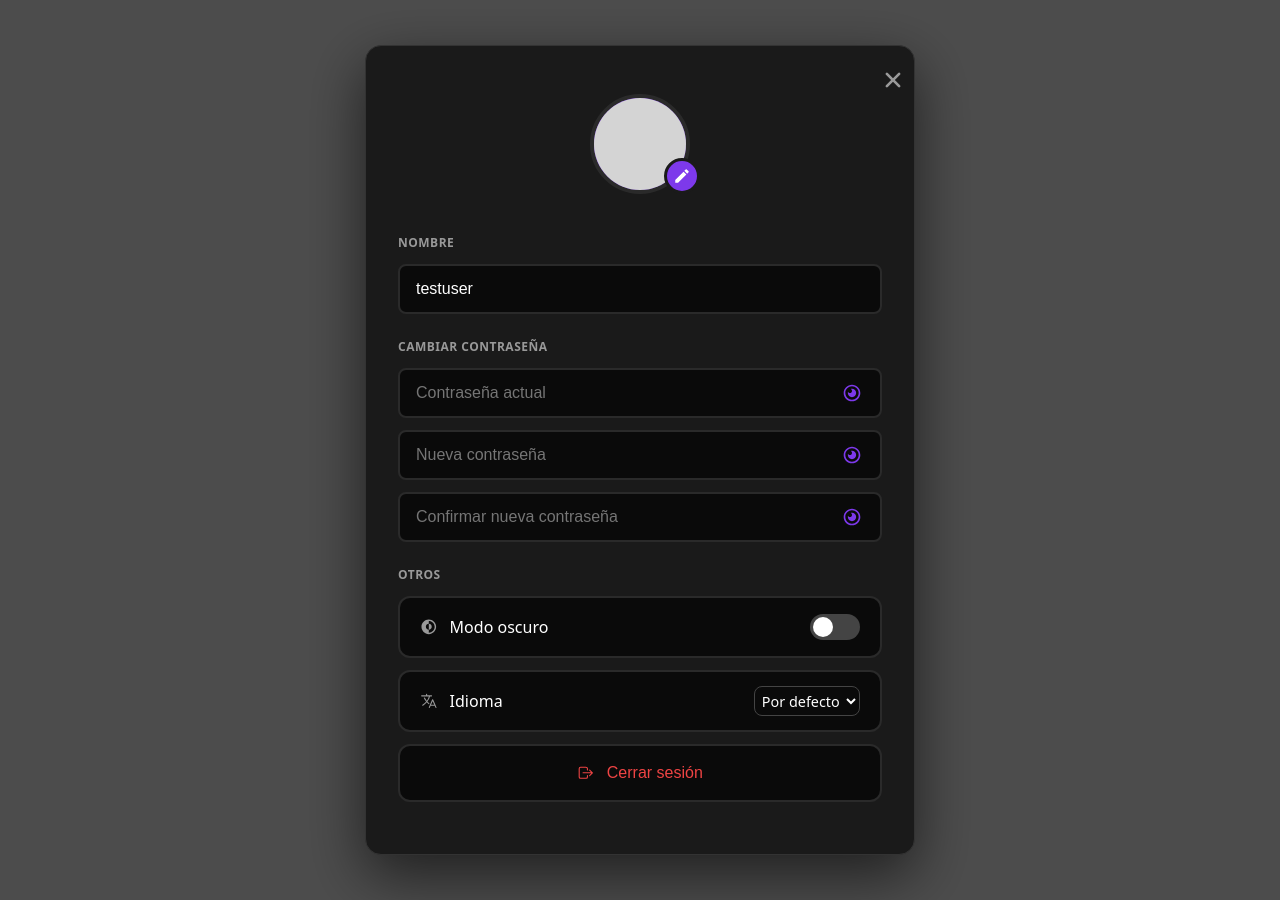
Test case: UserProfileModal Component › closes avatar edit menu when clicking outside
Click the button with class "avatar-edit-btn": click(682, 176) [664,158,700,194]
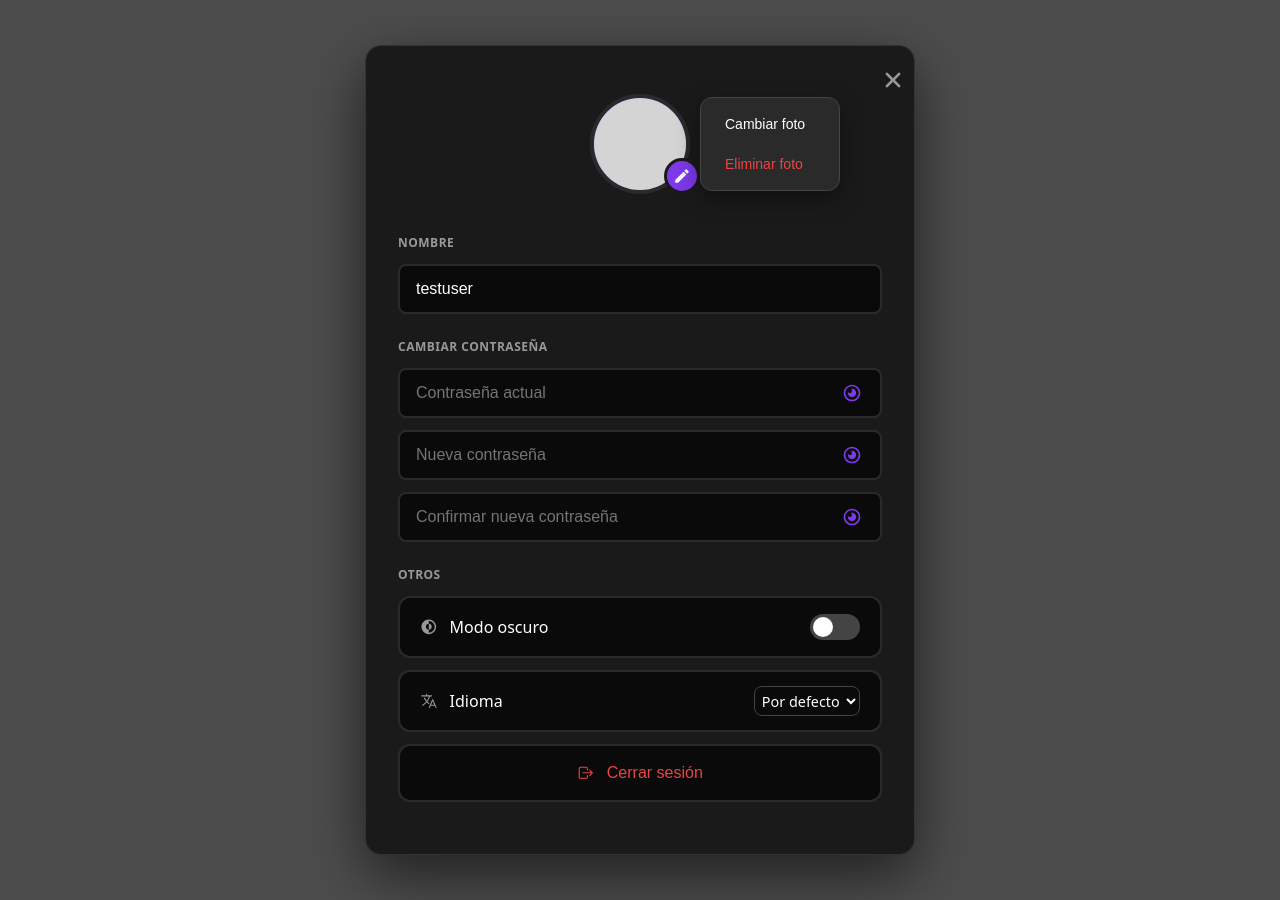
Now the button "Cambiar foto" is shown, box [709,106,831,142]
Press the mouse on the element that starts with "Cambiar foto": (640, 450) [0,0,1279,899]
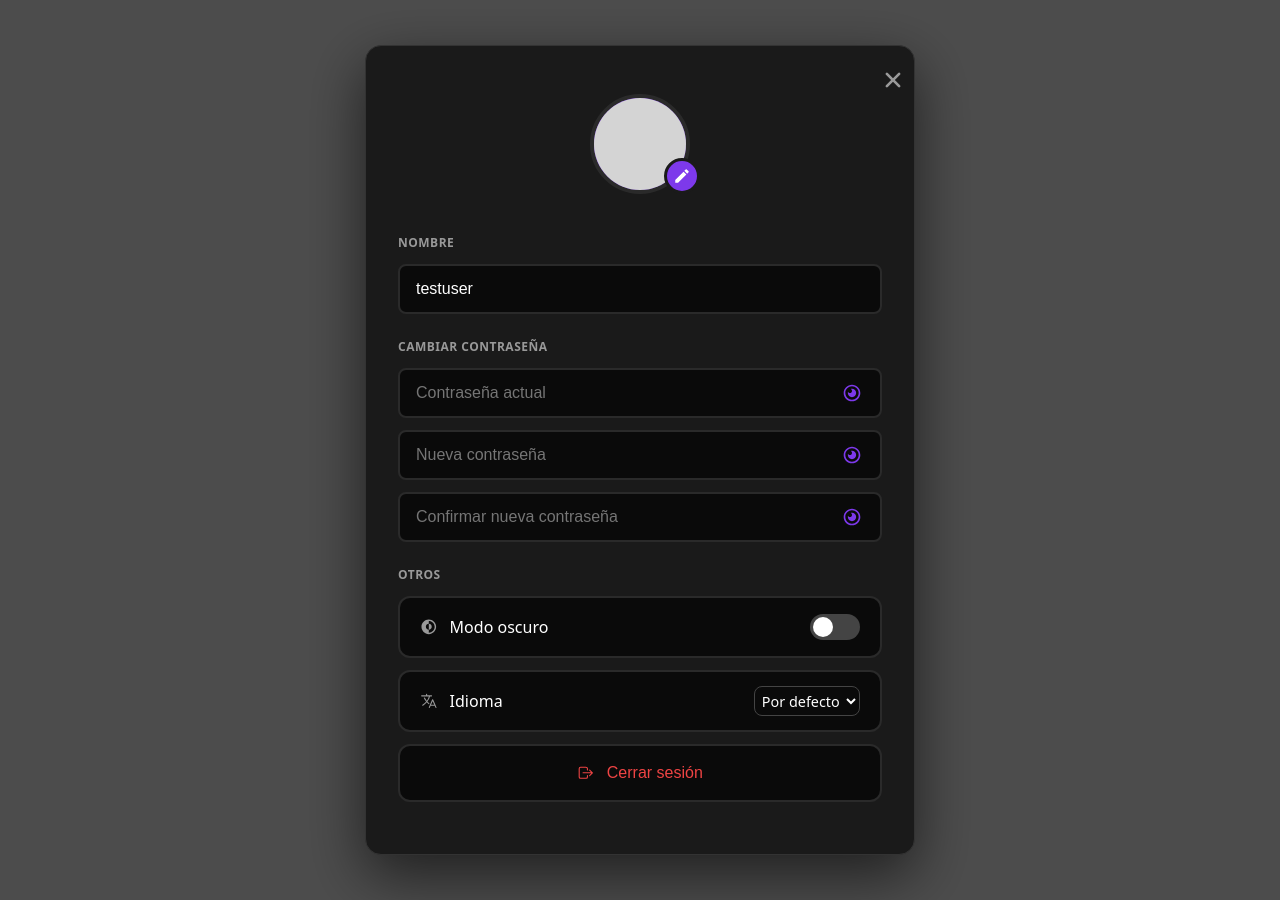
Now the button "Cambiar foto" is gone
